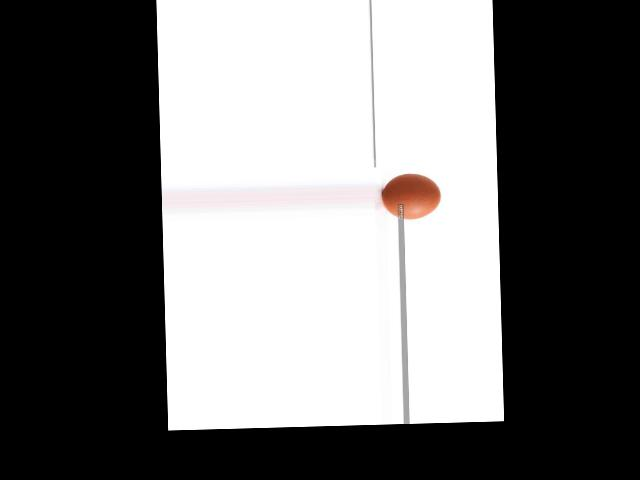egg: (382, 173, 441, 220)
